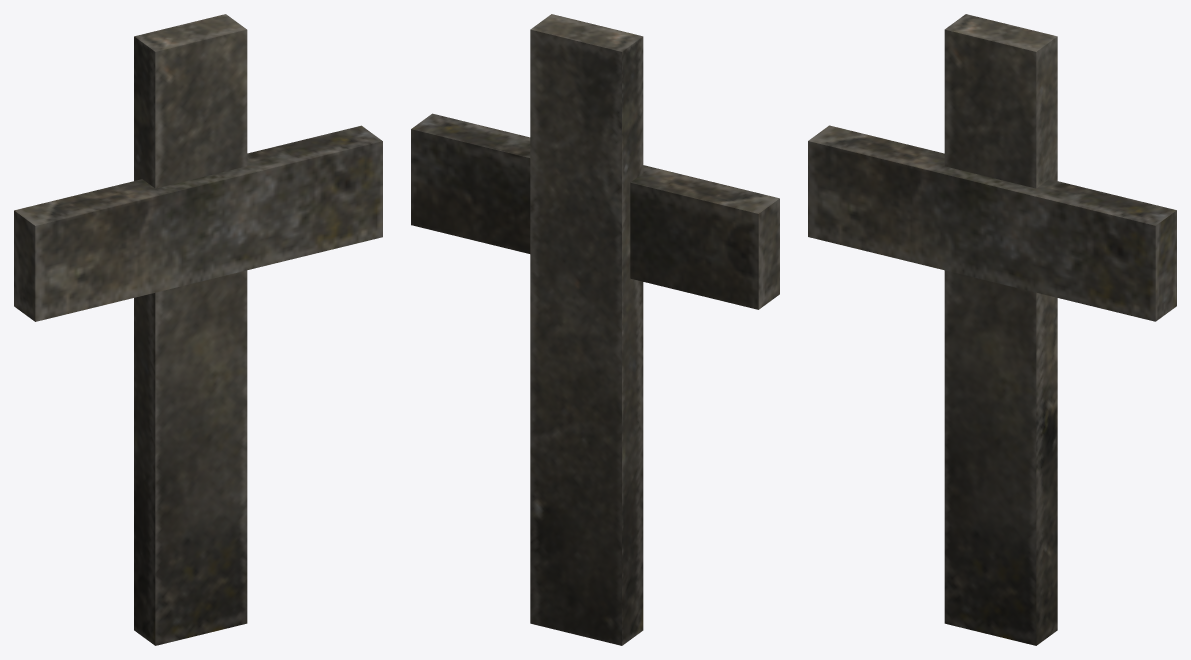
The model's file is Headstone_3.fbx.
3 renders of one model, left to right at view 1: azimuth 30°, elevation 25°; view 2: azimuth 150°, elevation 25°; view 3: azimuth 330°, elevation 25°, orthographic.
Visible parts, largest first — view 1: Headstone_3; view 2: Headstone_3; view 3: Headstone_3.
Boxes of the visible parts, left/top/right/bottom form: Headstone_3: left=14, top=14, right=382, bottom=645; Headstone_3: left=411, top=14, right=779, bottom=645; Headstone_3: left=808, top=14, right=1176, bottom=645.
Bounding box in the file's own units: 46.09 × 75.27 × 6.78.
